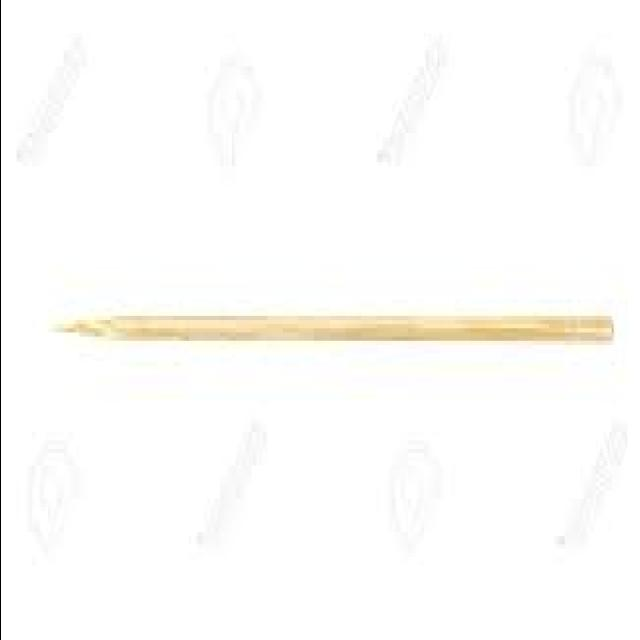stick: (50, 316, 612, 342)
